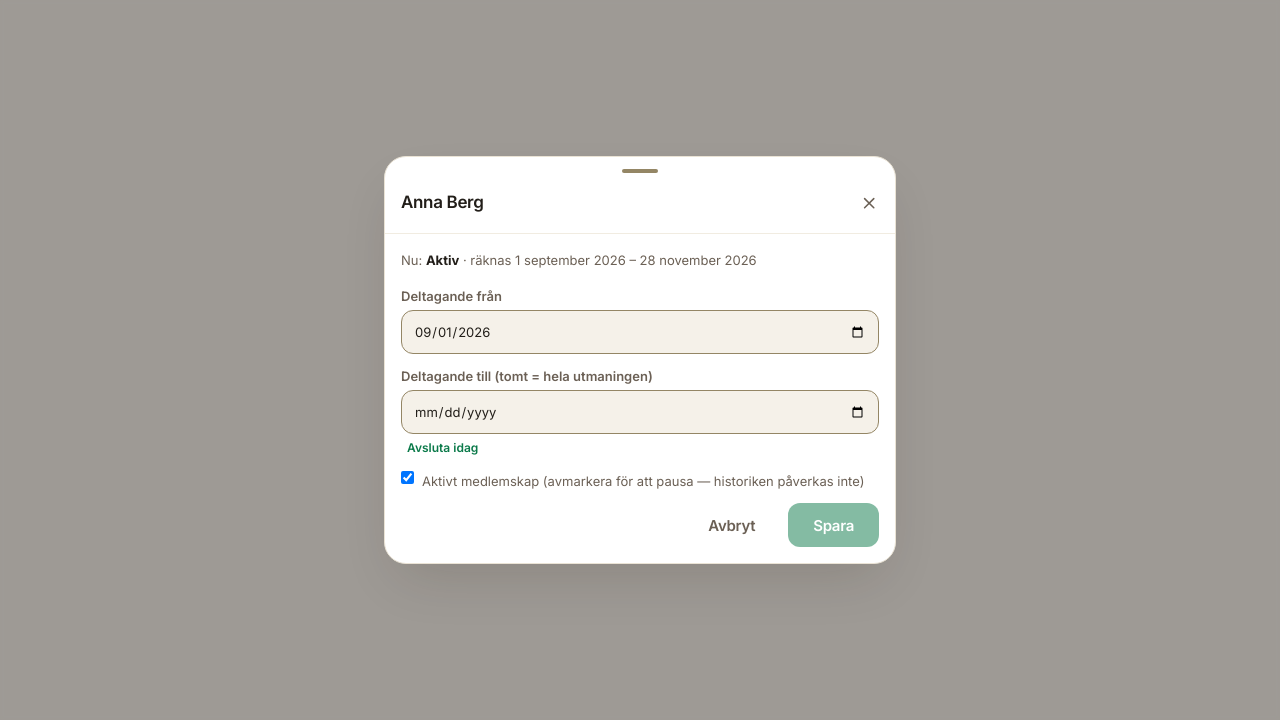
Test: EditMembershipSheet › rejects an end date before the start date
This screenshot has width=1280, height=720.
Type "2026-08-15" into the date field labelled "Deltagande till (tomt = hela utmaningen)" at {"x": 640, "y": 412}, box [401,390,879,434]
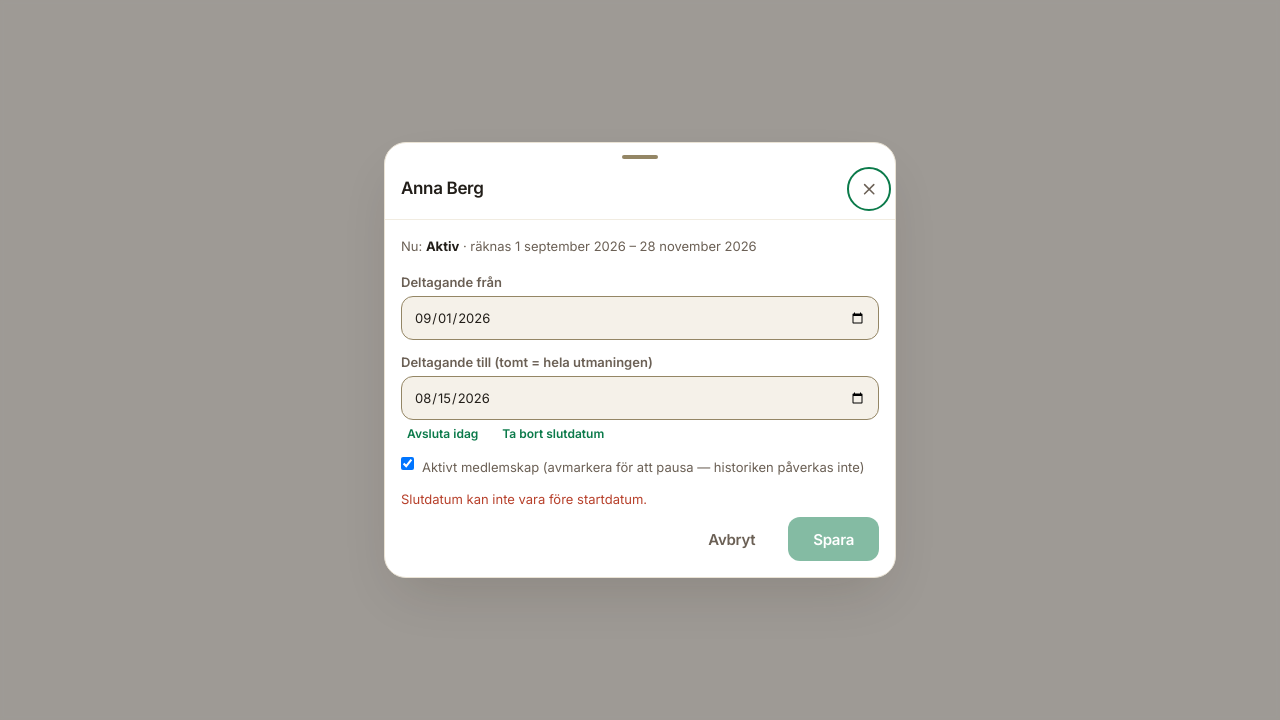
Expected: the button "Spara" is disabled, [788,517,879,561]
Now the text "Slutdatum kan inte vara före startdatum." is shown, box [401,491,647,507]
